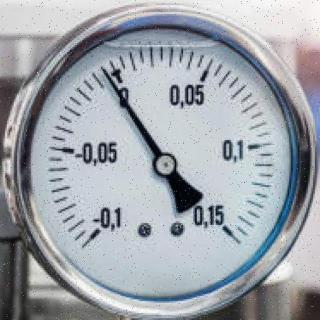gauge: (0, 0, 320, 320), (192, 203, 245, 255), (76, 204, 128, 256), (152, 150, 178, 178), (96, 63, 110, 77)
